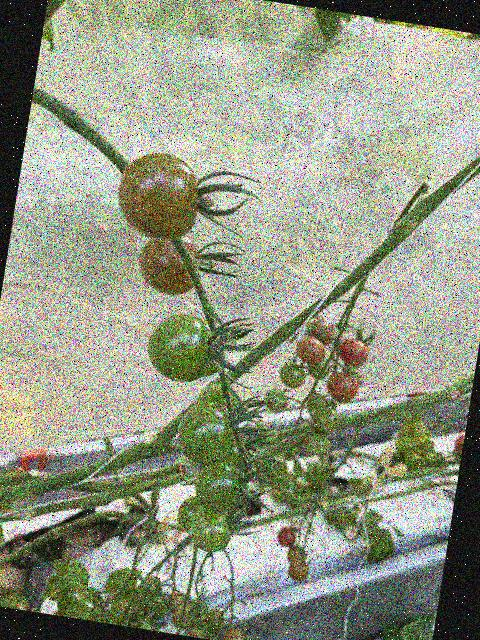l_fully_ripened: (338, 336, 371, 368)
l_green: (142, 308, 217, 387), (174, 397, 242, 470), (190, 454, 248, 515), (192, 379, 245, 430), (186, 504, 235, 555), (195, 320, 232, 379), (174, 493, 203, 534), (277, 359, 308, 390), (308, 405, 342, 433), (262, 386, 291, 415), (302, 430, 330, 456)
l_half_ripened: (110, 145, 206, 244), (134, 225, 206, 299), (323, 370, 360, 404), (294, 332, 328, 365), (305, 318, 337, 347)
